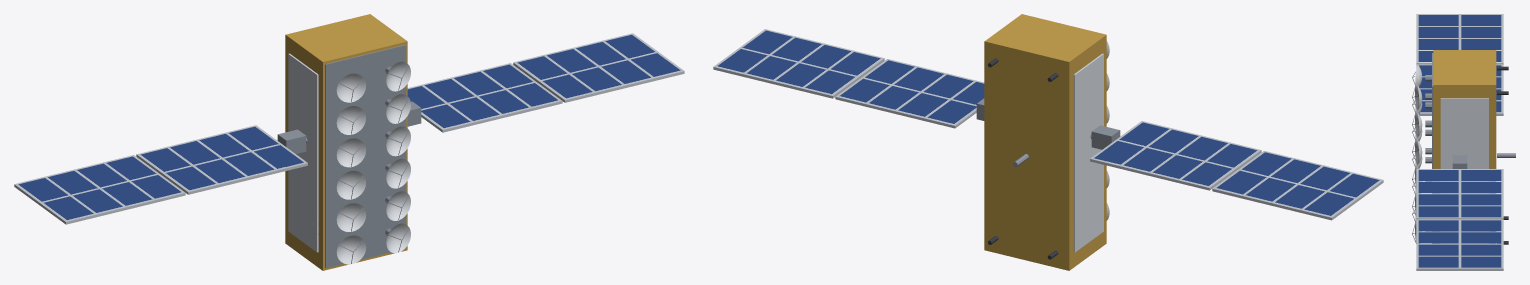
The picture shows the model from 3 angles, left to right: view 1: azimuth 30°, elevation 25°; view 2: azimuth 150°, elevation 25°; view 3: azimuth 270°, elevation 25°; orthographic projection. The views are drawn at different scales.
Visible parts, largest first — view 1: body, solar-panel, foil; view 2: foil, solar-panel, body; view 3: solar-panel, body, foil.
Boxes of the visible parts, x1,y1,x2,y2 form: body: [14, 33, 684, 268]; solar-panel: [18, 34, 680, 220]; foil: [285, 14, 407, 270]; foil: [984, 14, 1106, 270]; solar-panel: [717, 30, 1379, 215]; body: [713, 29, 1383, 259]; solar-panel: [1418, 15, 1501, 267]; body: [1412, 14, 1515, 270]; foil: [1433, 50, 1496, 243].
Bounding box in the file's own units: 12.4 × 4 × 2.13.
